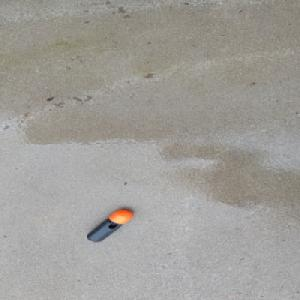PlasticPart: (85, 209, 134, 242)
